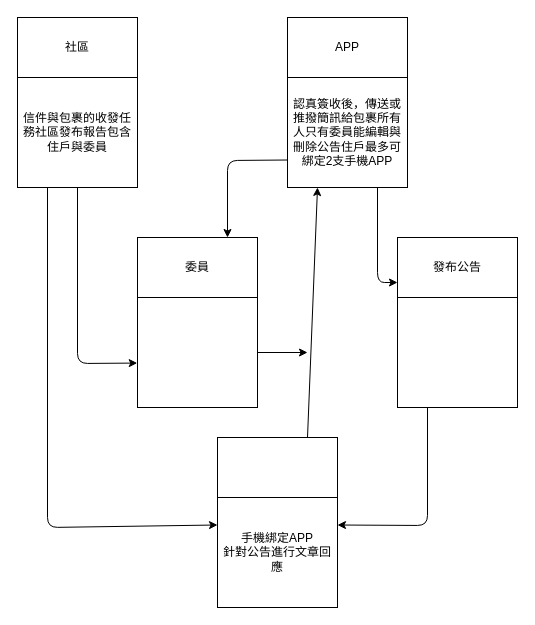
The diagram is 535 pixels wide and 625 high, and some of its shapes have lost their labels. The shapes that lost their labels are listed below. From the top down, each one's centre as x and y in pixels, then its label:
At [197,352]: "只有委員能編輯與刪除公告擁有專屬的職位".
At [457,352]: "委員隨時新增、修改與刪除讓住戶隨時查看包裹與信件是否簽收".
At [277,467]: "住戶".
